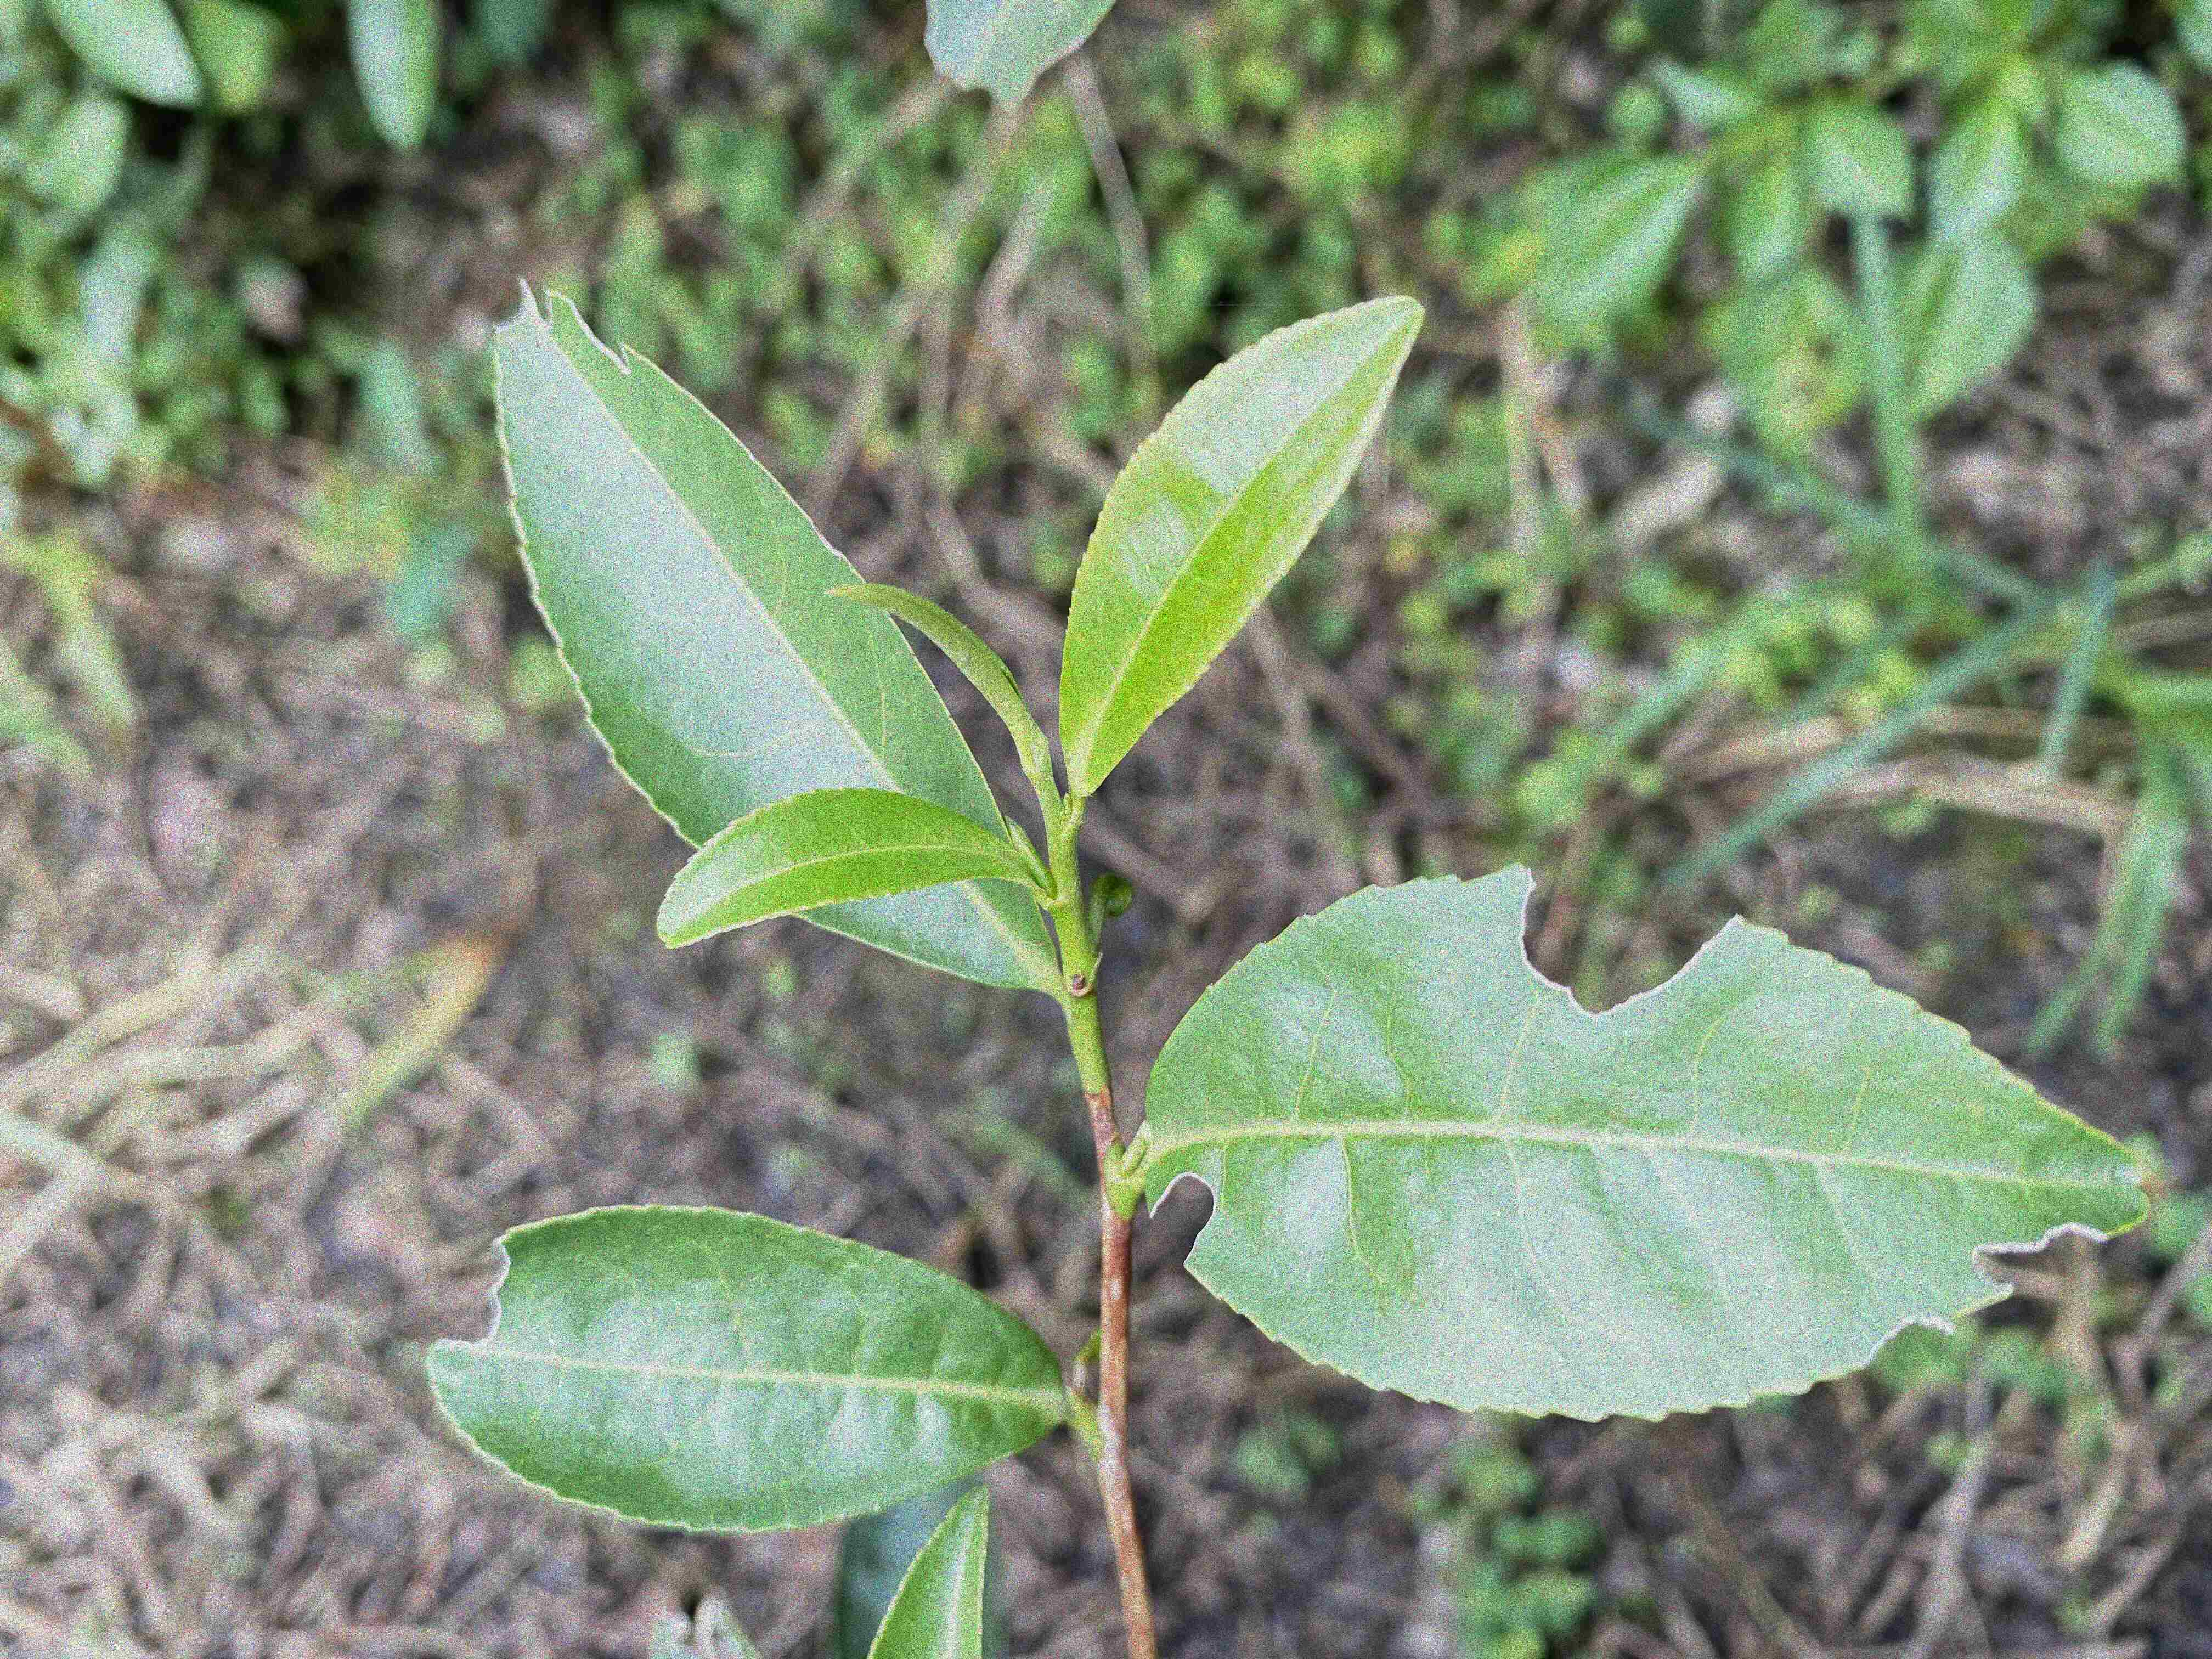chihuo_high: (1143, 859, 2153, 1425), (489, 268, 1052, 992)
chihuo_low: (423, 1208, 1068, 1534)
healthy: (1057, 295, 1425, 796), (653, 784, 1028, 948)
